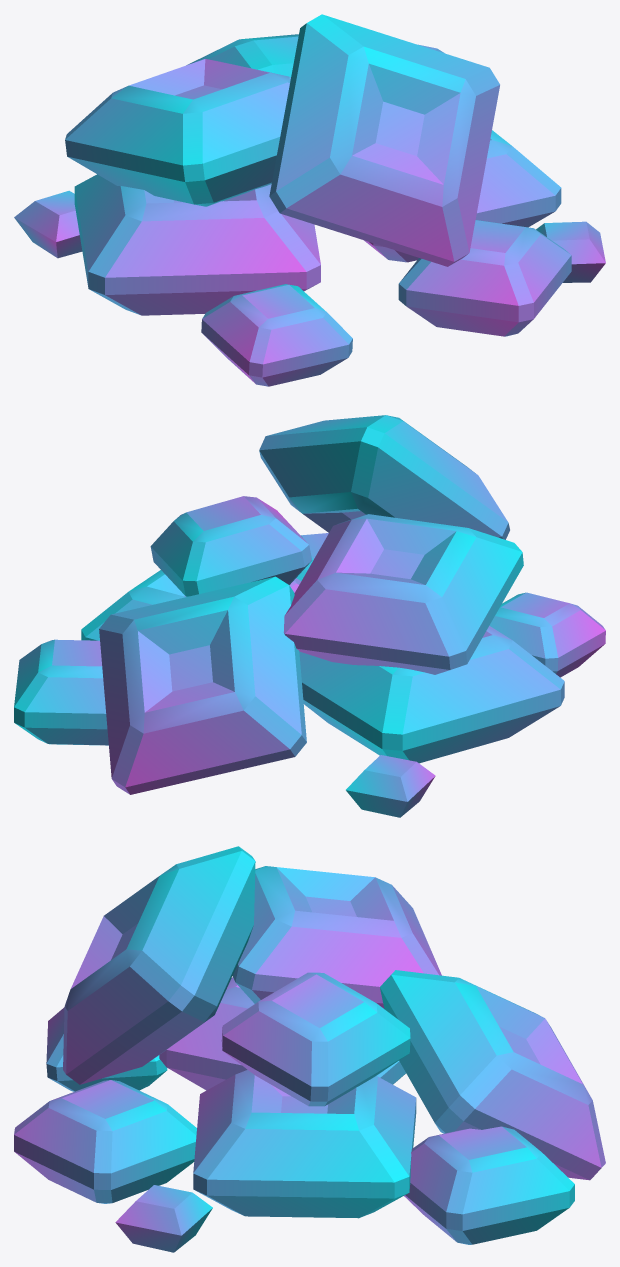
File: gems-pile-large.glb
3 views of the same model, one above another, from view 1: azimuth 30°, elevation 25°; view 2: azimuth 150°, elevation 25°; view 3: azimuth 270°, elevation 25° (orthographic). The views are drawn at different scales.
Parts seen in each view (by area): view 1: Gems_Pile_Large; view 2: Gems_Pile_Large; view 3: Gems_Pile_Large.
Part boxes in pixels (x1,y1,x2,y2): Gems_Pile_Large: (14, 14, 605, 386); Gems_Pile_Large: (14, 415, 605, 817); Gems_Pile_Large: (14, 846, 605, 1252).
Bounding box in the file's own units: 1.35 × 0.7591 × 1.42.
1 material, 1 textured.
